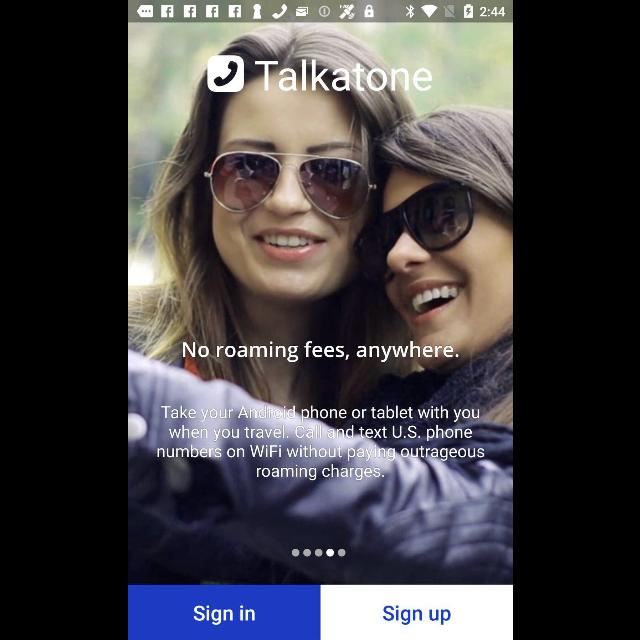backgroundimage: (128, 23, 512, 584)
image: (206, 56, 244, 92)
pageindicator: (291, 548, 345, 558)
text: (156, 405, 484, 481), (182, 341, 458, 363), (254, 59, 432, 91)
textbutton: (320, 584, 512, 640), (127, 584, 319, 640)
uppertaskbar: (128, 1, 512, 23)
